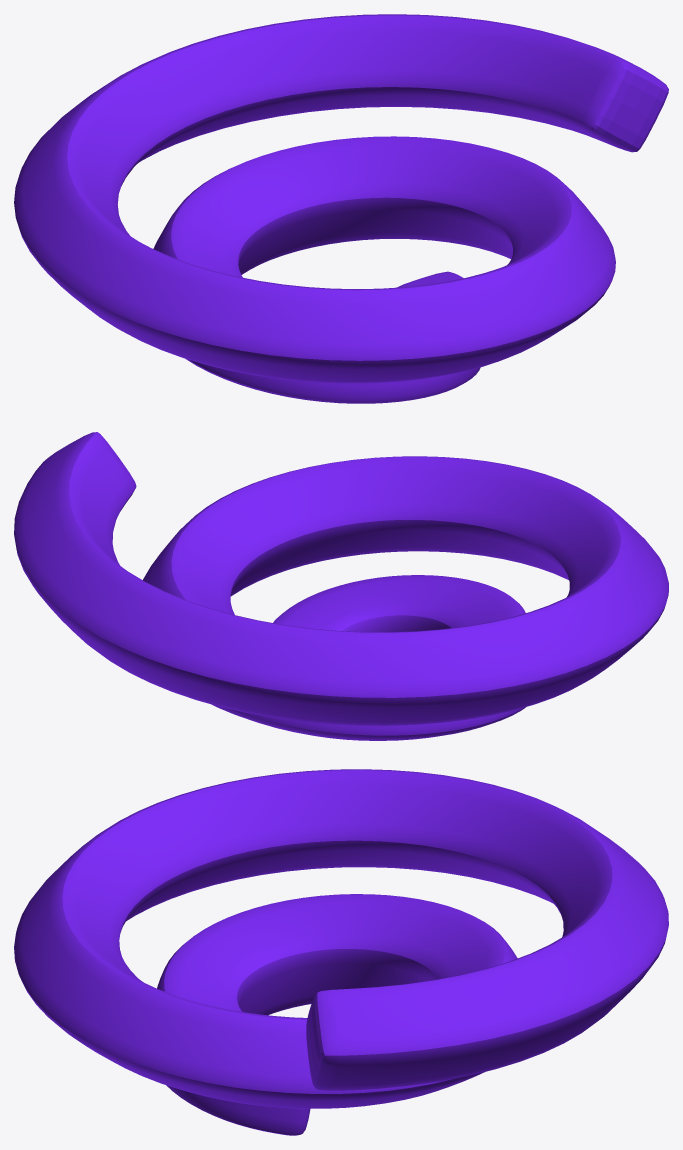
Rendered from stress.glb.
3 views of the same model, one above another, from view 1: azimuth 30°, elevation 25°; view 2: azimuth 150°, elevation 25°; view 3: azimuth 270°, elevation 25° (orthographic). The views are drawn at different scales.
Parts seen in each view (by area): view 1: Cube; view 2: Cube; view 3: Cube.
Boxes of the visible parts, left/top/right/bottom form: Cube: left=14, top=14, right=668, bottom=403; Cube: left=14, top=432, right=668, bottom=740; Cube: left=14, top=769, right=668, bottom=1135.
Size of the model in its own units: 3.64 by 1.32 by 3.33.
